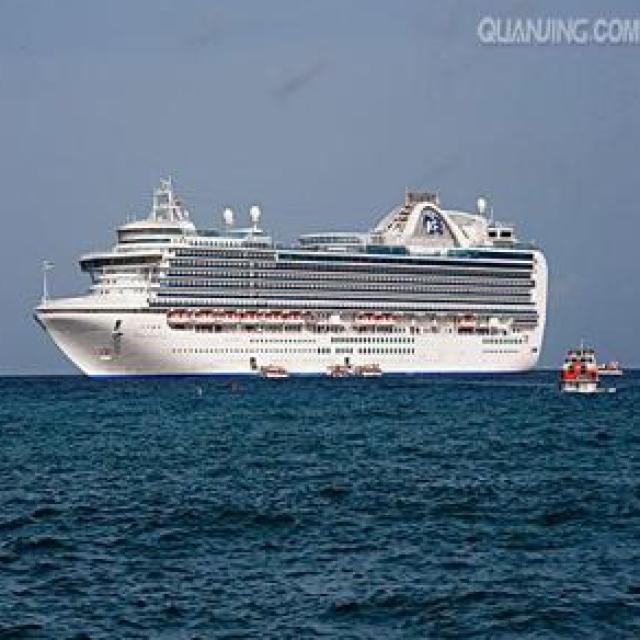passenger ship: (28, 172, 550, 374), (557, 327, 604, 394)
